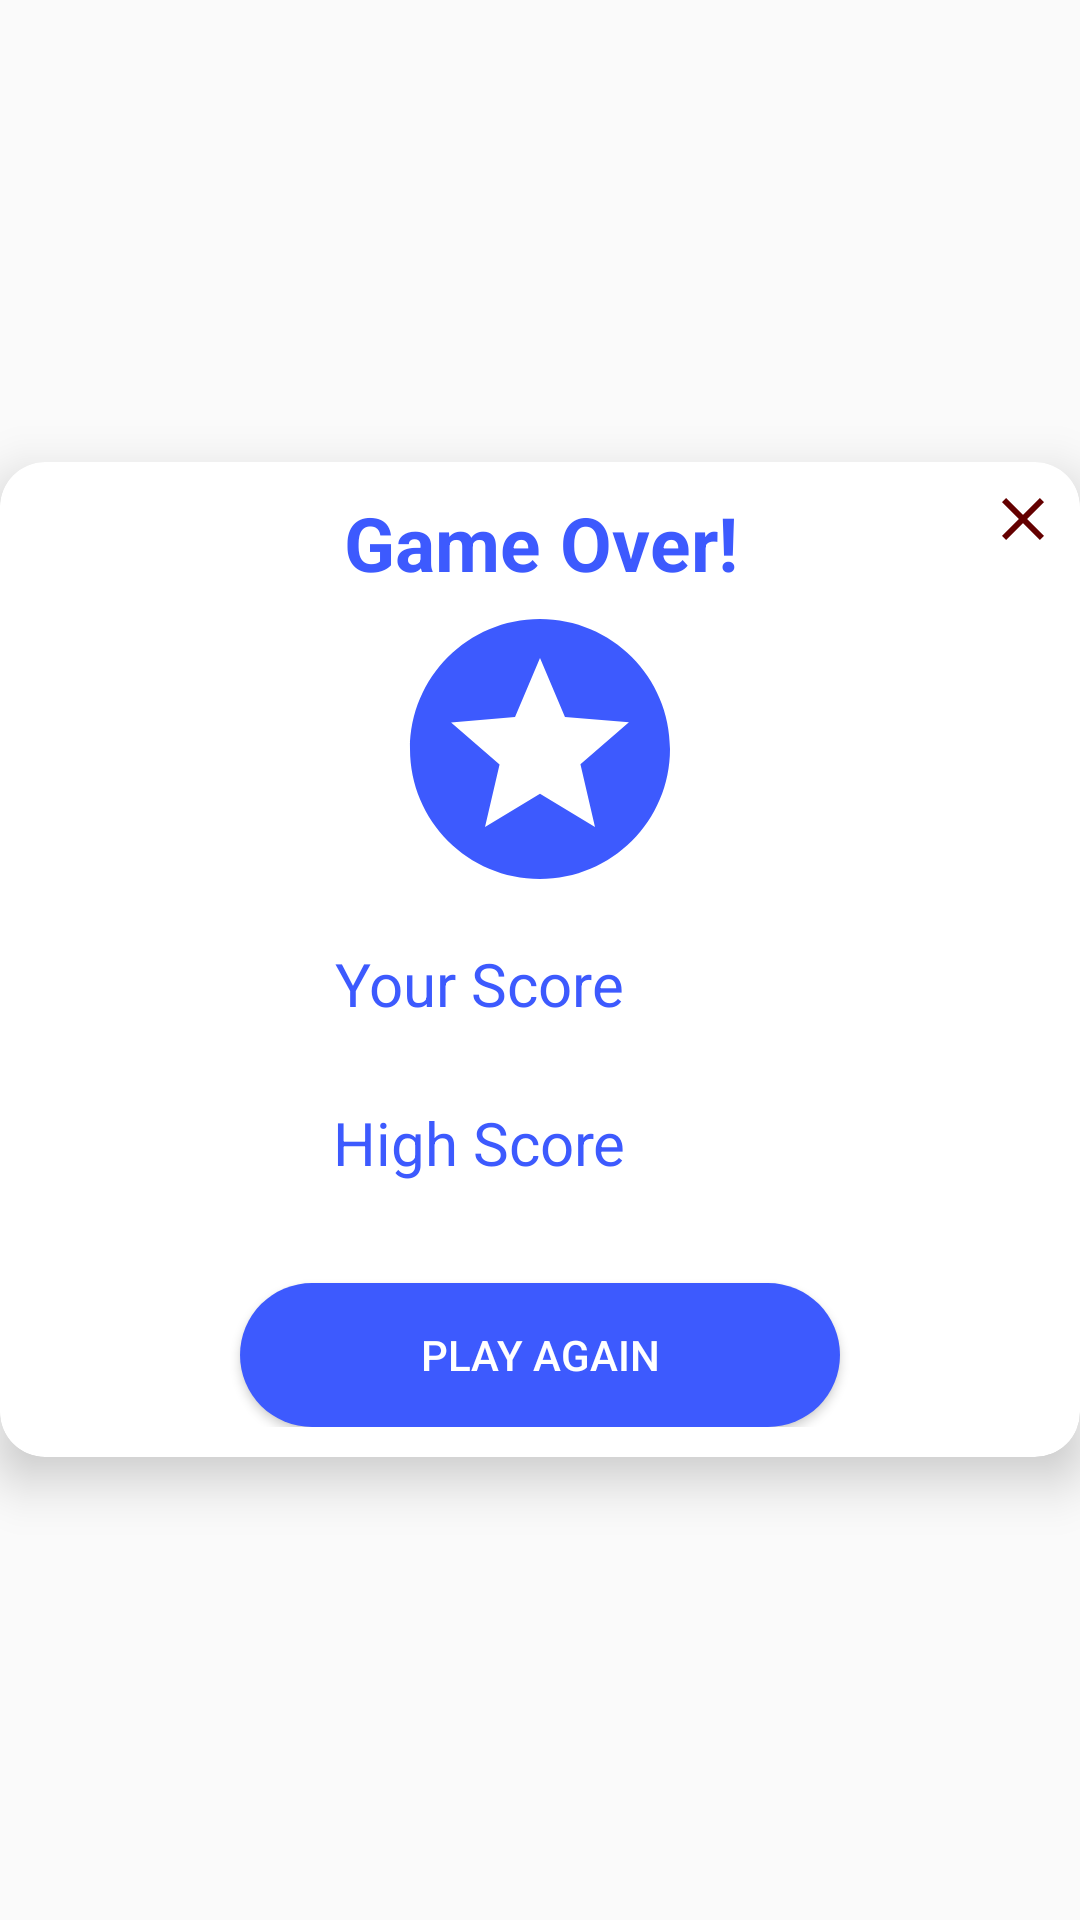

Icon click points for this 1080 × 1920 phone screenshot, format point (x, y):
clear: point (1023, 519)
stars: point (540, 749)
